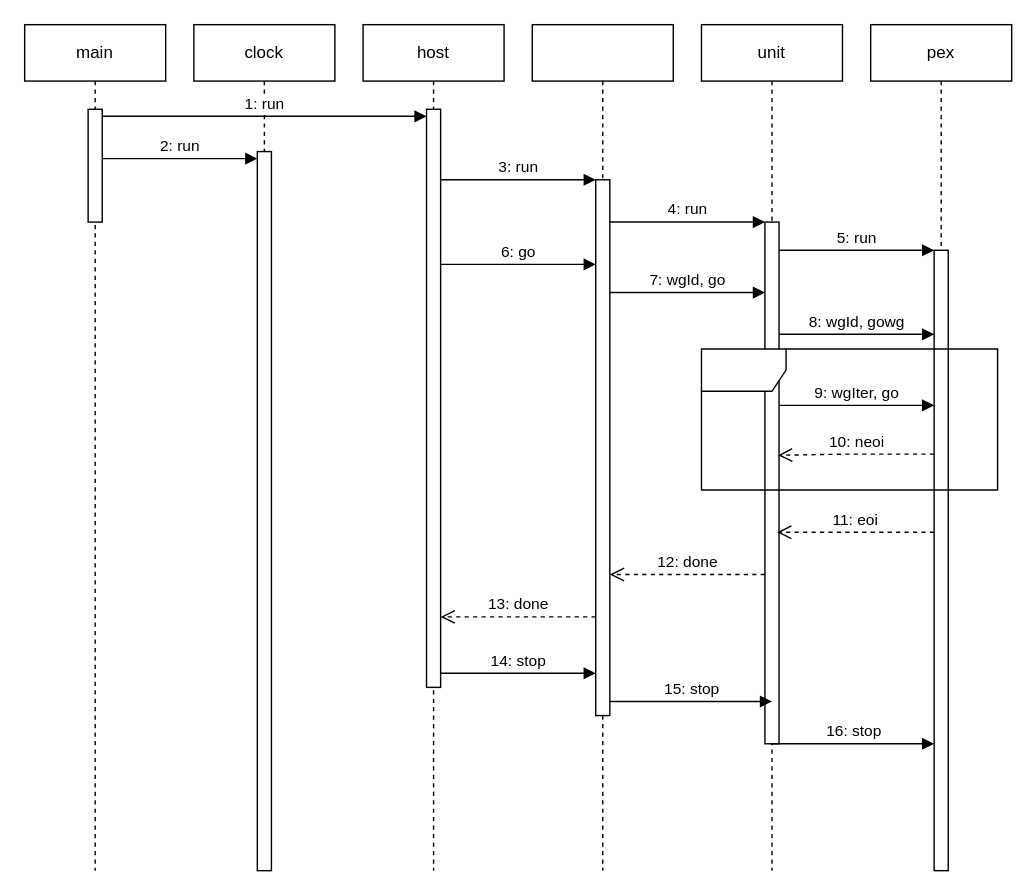
The diagram is 1036 pixels wide and 895 high, and some of its shapes have lost their labels. The shapes that lost their labels are listed below. From the top down, each one's box as (x1, y1, x2, y2) in pixels, then its label:
(700, 348, 998, 490): loop
(531, 23, 673, 871): device
